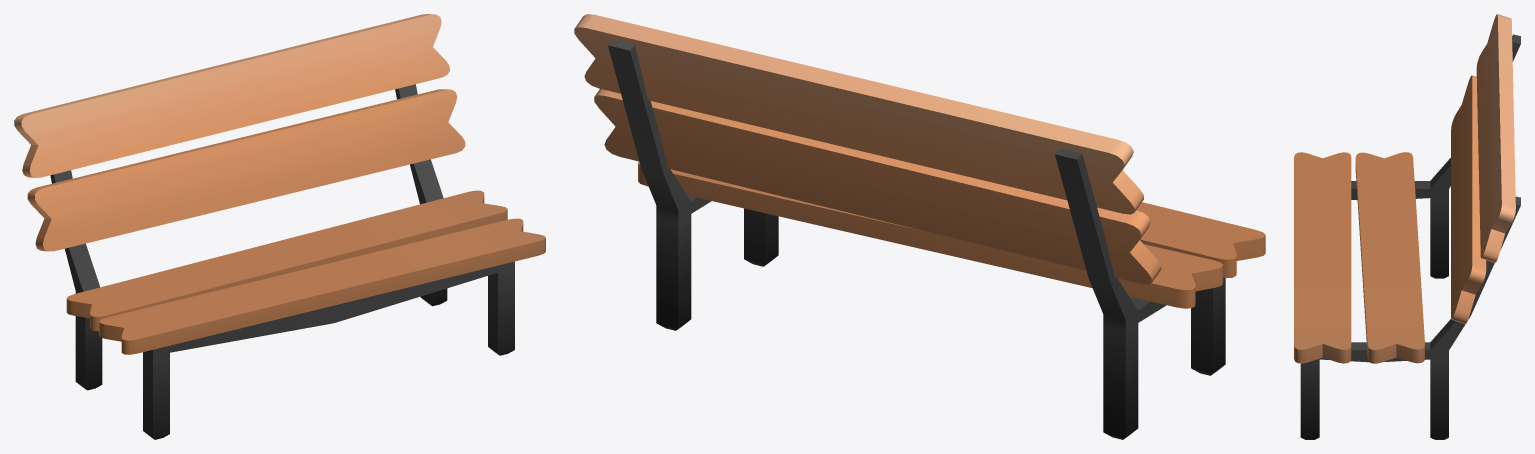
File: bench.glb
3 renders of one model, left to right at view 1: azimuth 30°, elevation 25°; view 2: azimuth 150°, elevation 25°; view 3: azimuth 270°, elevation 25°, orthographic. The views are drawn at different scales.
Visible parts, largest first — view 1: bench; view 2: bench; view 3: bench.
Boxes of the visible parts, bbox=[...] form: bench: bbox=[14, 14, 545, 439]; bench: bbox=[574, 14, 1265, 439]; bench: bbox=[1294, 14, 1520, 439].
Bounding box in the file's own units: 2.9 × 1.69 × 1.41.
1 material, 1 textured.
